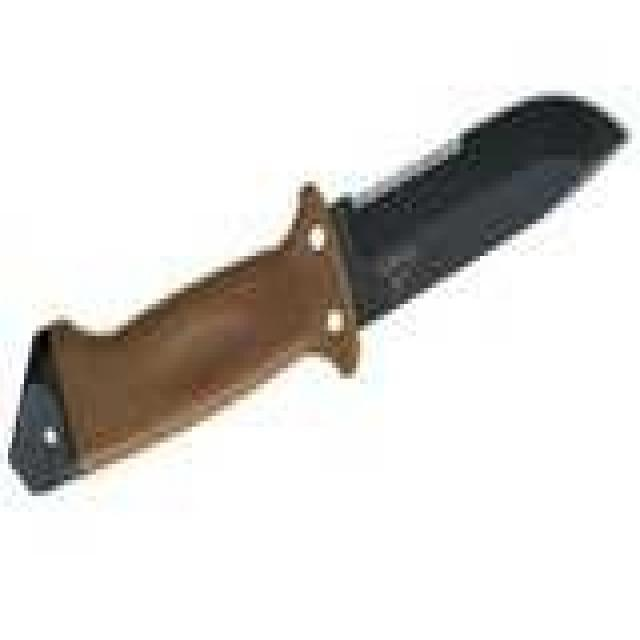knife: (25, 70, 640, 591)
